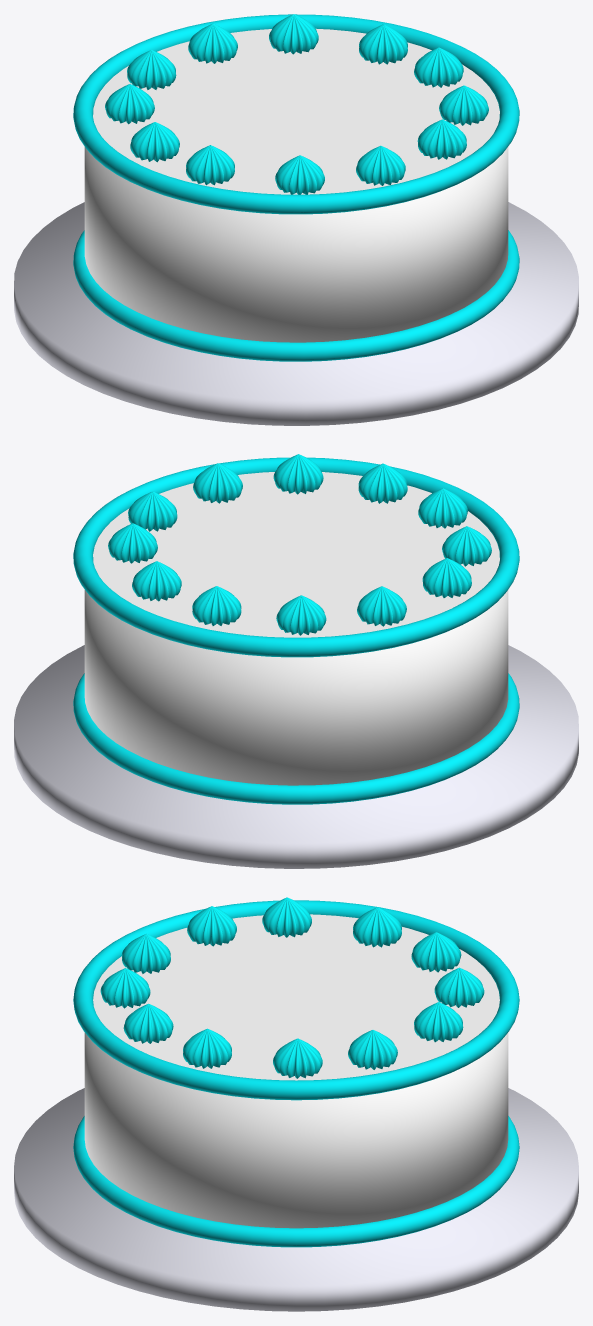
File: round_vanilla_style1.glb
The picture shows the model from 3 angles, top to bottom: view 1: azimuth 30°, elevation 25°; view 2: azimuth 150°, elevation 25°; view 3: azimuth 270°, elevation 25°; orthographic projection.
Visible parts, largest first — view 1: CakeBase, IcingStand, CakeTopCircle, IcingRing, IcingRing.001, design7, design6, design4, design10, design2, design1, design12 (+5 smaller); view 2: CakeBase, IcingStand, CakeTopCircle, IcingRing, IcingRing.001, design2, design1, design5, design9, design8, design3, design10 (+5 smaller); view 3: CakeBase, IcingStand, CakeTopCircle, IcingRing, IcingRing.001, design2, design11, design10, design7, design6, design5, design3 (+5 smaller).
Boxes of the visible parts, bbox=[...] form: CakeBase: bbox=[84, 147, 508, 342]; IcingStand: bbox=[14, 202, 578, 425]; CakeTopCircle: bbox=[93, 28, 499, 194]; IcingRing: bbox=[73, 14, 519, 214]; IcingRing.001: bbox=[73, 230, 519, 361]; design7: bbox=[186, 145, 234, 185]; design6: bbox=[127, 50, 176, 89]; design4: bbox=[414, 47, 463, 87]; design10: bbox=[105, 84, 154, 124]; design2: bbox=[356, 145, 405, 185]; design1: bbox=[188, 23, 237, 63]; design12: bbox=[275, 155, 324, 194]; CakeBase: bbox=[84, 590, 508, 785]; IcingStand: bbox=[14, 645, 578, 868]; CakeTopCircle: bbox=[93, 472, 499, 637]; IcingRing: bbox=[73, 457, 519, 657]; IcingRing.001: bbox=[73, 673, 519, 804]; design2: bbox=[358, 463, 407, 503]; design1: bbox=[192, 586, 241, 625]; design5: bbox=[273, 454, 323, 494]; design9: bbox=[193, 463, 242, 503]; design8: bbox=[108, 523, 157, 563]; design3: bbox=[422, 558, 471, 597]; design10: bbox=[357, 586, 406, 626]; CakeBase: bbox=[84, 1032, 508, 1228]; IcingStand: bbox=[14, 1088, 578, 1311]; CakeTopCircle: bbox=[93, 914, 499, 1080]; IcingRing: bbox=[73, 900, 519, 1100]; IcingRing.001: bbox=[73, 1116, 519, 1247]; design2: bbox=[100, 968, 150, 1008]; design11: bbox=[414, 1002, 463, 1042]; design10: bbox=[353, 907, 401, 947]; design7: bbox=[187, 906, 236, 946]; design6: bbox=[411, 932, 461, 972]; design5: bbox=[123, 1003, 173, 1043]; design3: bbox=[262, 897, 311, 937].
Bounding box in the file's own units: 4 × 1.75 × 4.
